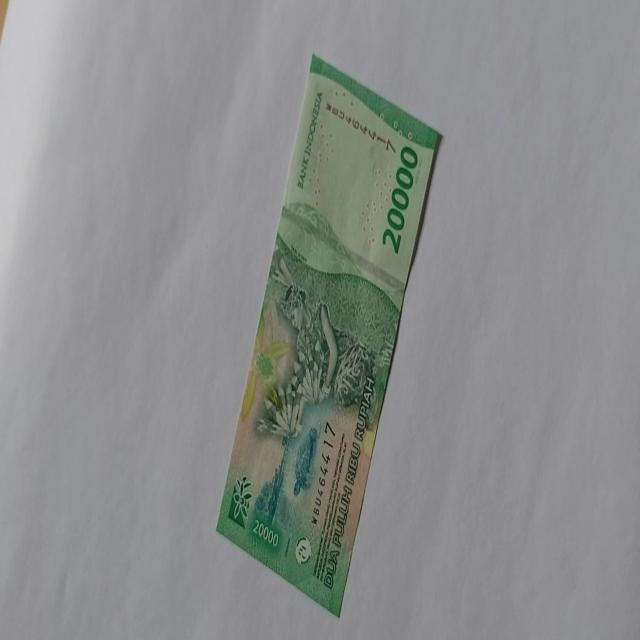dua puluh ribu rupiah: (214, 52, 443, 618), (253, 284, 377, 444)
